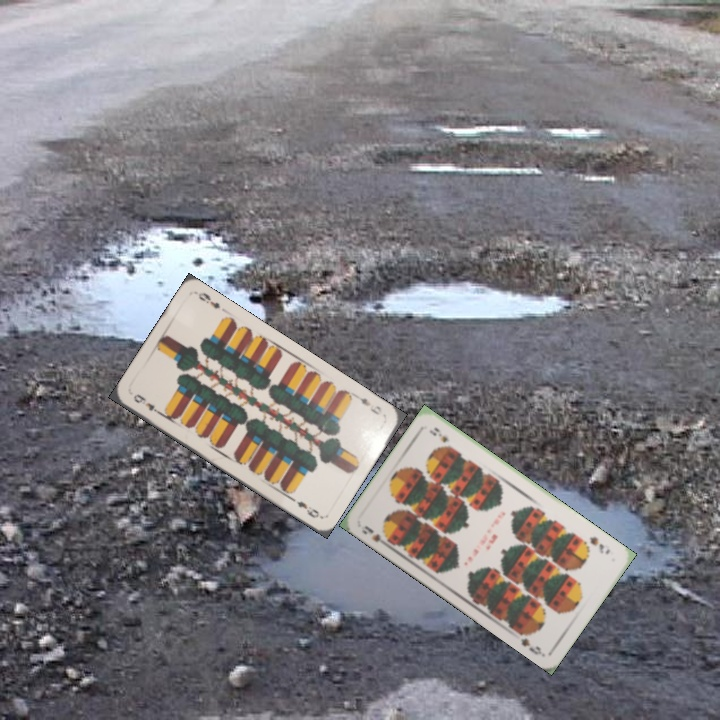E9: (129, 390, 164, 417), (351, 391, 384, 418)
S9: (358, 522, 394, 550), (585, 532, 613, 557)
